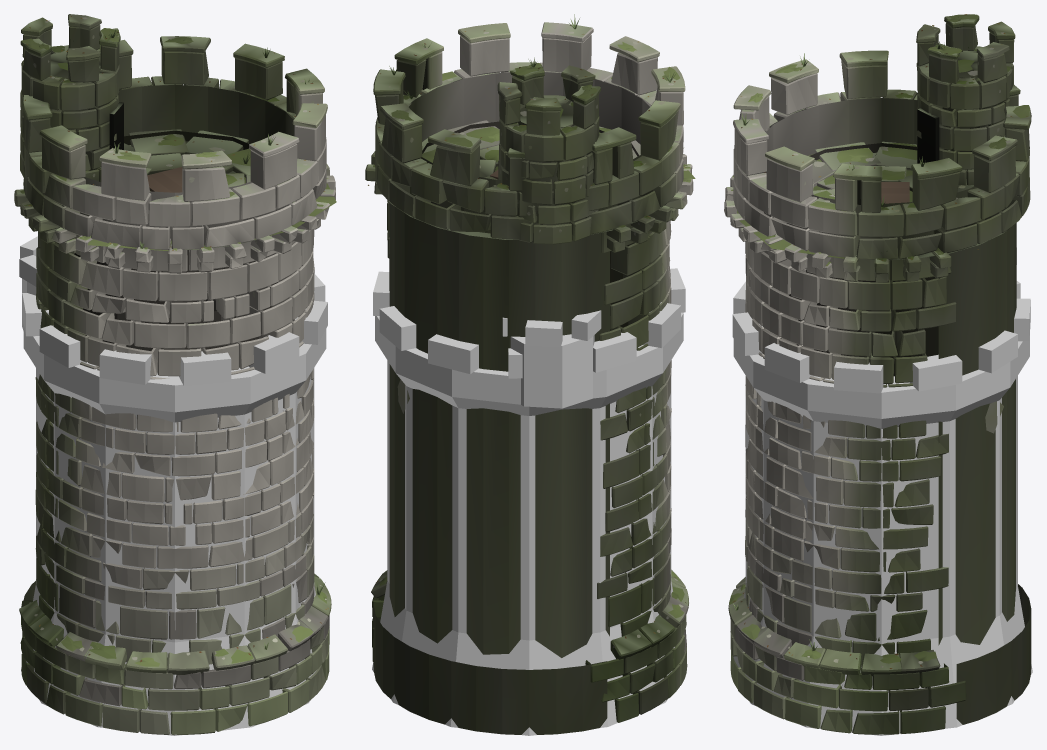
The model's file is tower_w.glb.
3 renders of one model, left to right at view 1: azimuth 30°, elevation 25°; view 2: azimuth 150°, elevation 25°; view 3: azimuth 270°, elevation 25°, orthographic. The views are drawn at different scales.
Visible parts, largest first — view 1: tower_w, tower_w_shadow; view 2: tower_w, tower_w_shadow; view 3: tower_w, tower_w_shadow.
Part boxes in pixels (x1=…): tower_w: x1=14, y1=14, x2=336, y2=734; tower_w_shadow: x1=19, y1=236, x2=327, y2=735; tower_w: x1=365, y1=14, x2=695, y2=734; tower_w_shadow: x1=372, y1=268, x2=685, y2=735; tower_w: x1=724, y1=14, x2=1031, y2=734; tower_w_shadow: x1=732, y1=247, x2=1032, y2=735.
Size of what is drawn, in the model's own units: 6.83 by 14.69 by 6.68.
